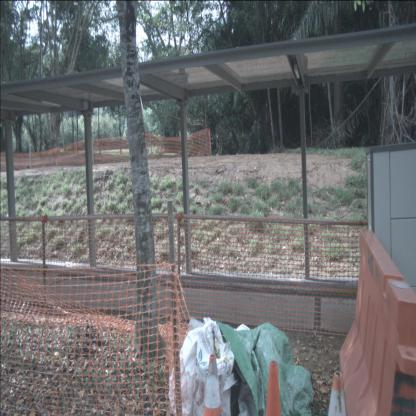movable_object-barrier: (338, 228, 416, 415)
movable_object-trafficcone: (202, 353, 223, 416), (265, 358, 282, 416), (327, 370, 348, 416)
